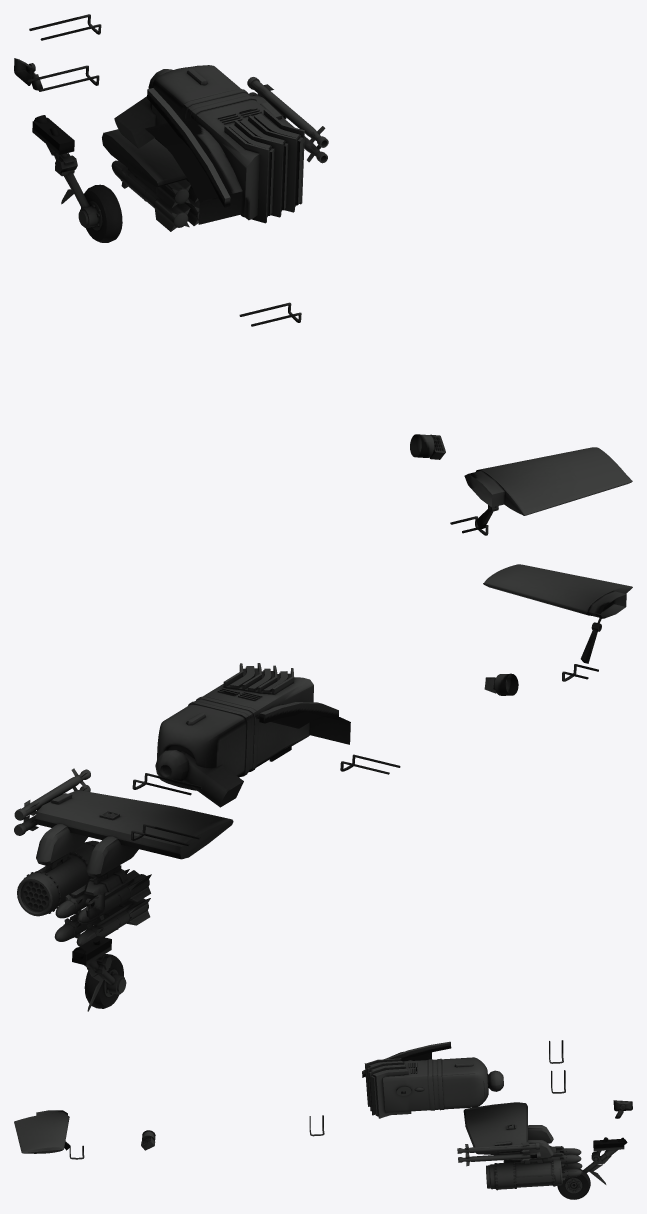
Rendered from apache_2018-side2.obj.
3 views of the same model, one above another, from view 1: azimuth 30°, elevation 25°; view 2: azimuth 150°, elevation 25°; view 3: azimuth 270°, elevation 25° (orthographic). The views are drawn at different scales.
Visible parts, largest first — view 1: apache_2018-side2.obj; view 2: apache_2018-side2.obj; view 3: apache_2018-side2.obj.
Part boxes in pixels (x1=…): apache_2018-side2.obj: x1=14, y1=14, x2=632, y2=535; apache_2018-side2.obj: x1=14, y1=564, x2=632, y2=1011; apache_2018-side2.obj: x1=14, y1=1040, x2=632, y2=1199.
Size of the model in its own units: 0.2276 by 0.2546 by 1.02.
1 material, 1 textured.
